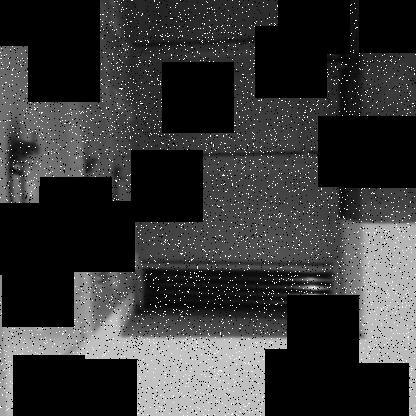Porte: (125, 1, 347, 323)
